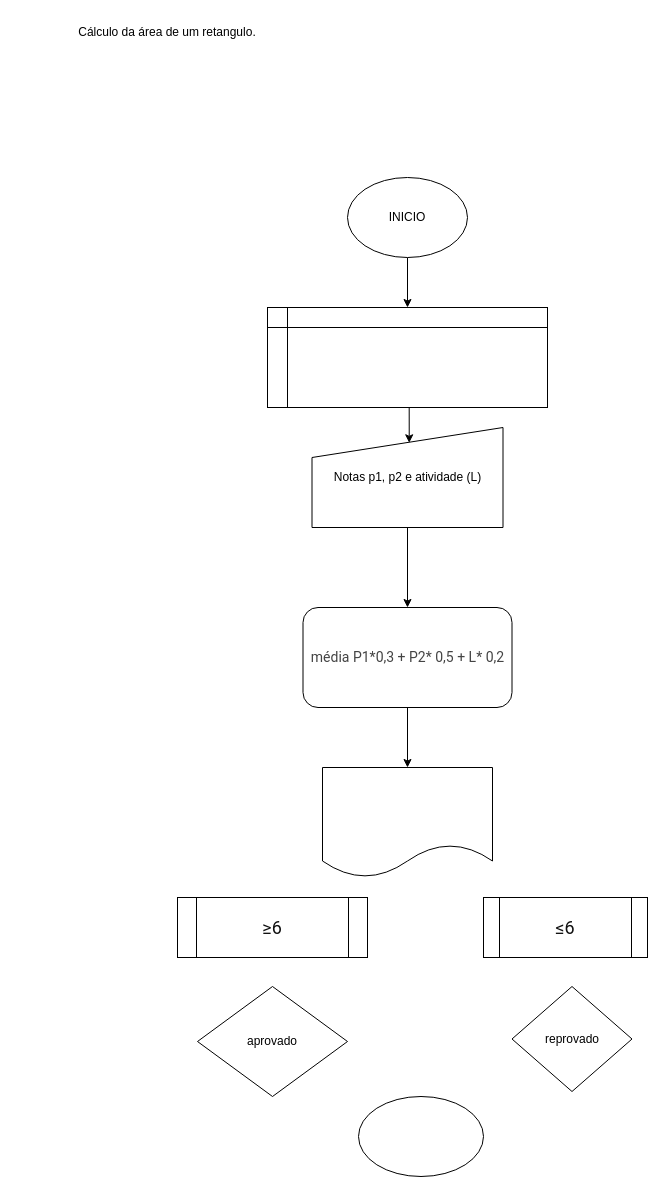
Some shapes in this 665 by 1194 pixel diagram are drawn without their labels. Here are the shapes that lost their labels. From the top down, the centre of each, then its label:
At [407,357]: "Entrada das notas de LTP e saida da média".
At [407,822]: "valor da média".
At [421,1136]: "final".
